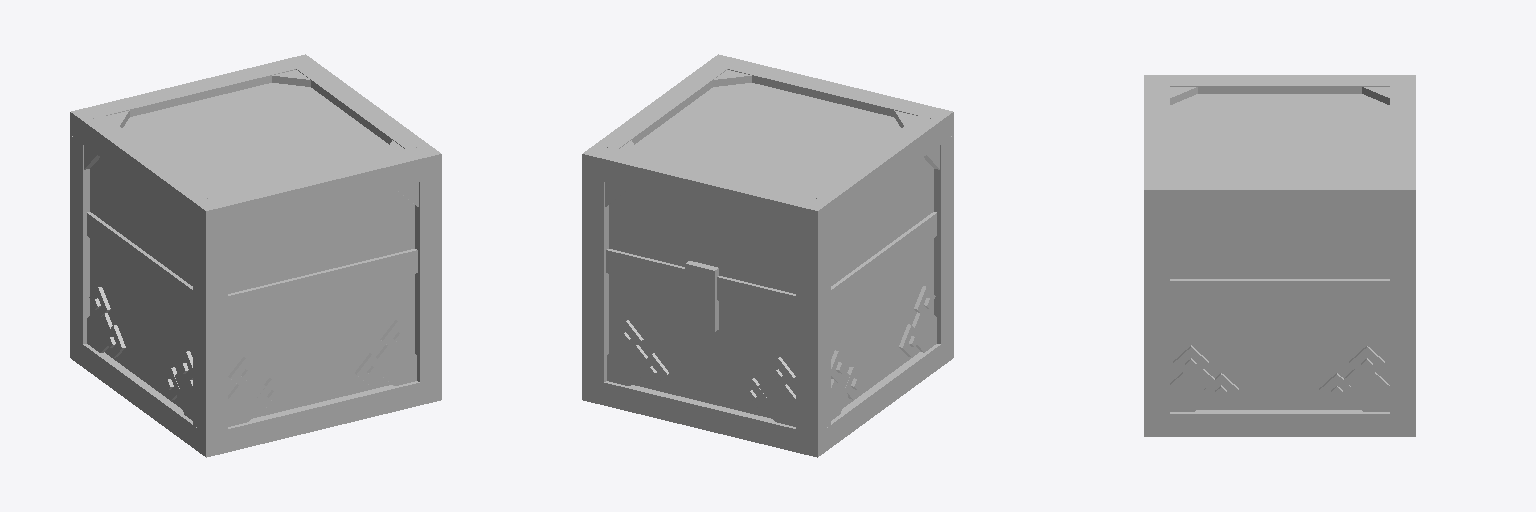
The model's file is engineer_storage.obj.
3 views of the same model, side by side, from view 1: azimuth 30°, elevation 25°; view 2: azimuth 150°, elevation 25°; view 3: azimuth 270°, elevation 25° (orthographic).
Visible parts, largest first — view 1: chest2, chest3, chest6, chest13, chest17, chest8, chest18, chest15, chest22, chest1, chest16, chest10 (+6 smaller); view 2: chest, chest3, chest6, chest1, chest16, chest7, chest9, chest15, chest13, chest21, chest17, chest10 (+7 smaller); view 3: chest5, chest3, chest14, chest11, chest19, chest9, chest18, chest15, chest1, chest13, chest38, chest33 (+6 smaller).
Boxes of the visible parts, box(x1,y1,x2,y2) form: chest2: box(228, 188, 414, 418); chest3: box(123, 83, 388, 190); chest6: box(90, 157, 192, 408); chest13: box(193, 145, 441, 233); chest17: box(193, 225, 227, 434); chest8: box(193, 377, 441, 457); chest18: box(415, 177, 441, 381); chest15: box(83, 116, 215, 223); chest22: box(228, 249, 417, 318); chest1: box(70, 54, 317, 143); chest16: box(70, 135, 89, 343); chest10: box(83, 344, 192, 447); chest: box(609, 188, 795, 418); chest3: box(635, 83, 900, 190); chest6: box(831, 157, 933, 407); chest1: box(582, 145, 830, 233); chest16: box(796, 225, 830, 434); chest7: box(582, 377, 830, 457); chest9: box(582, 177, 608, 381); chest15: box(808, 116, 940, 223); chest13: box(706, 54, 953, 143); chest21: box(606, 249, 795, 318); chest17: box(934, 135, 953, 343); chest10: box(831, 344, 940, 447); chest5: box(1170, 213, 1389, 409); chest3: box(1170, 94, 1389, 178); chest14: box(1170, 179, 1389, 212); chest11: box(1170, 410, 1389, 436); chest19: box(1170, 279, 1389, 303); chest9: box(1390, 213, 1415, 413); chest18: box(1144, 213, 1169, 413); chest15: box(1170, 75, 1389, 93); chest1: box(1390, 75, 1415, 212); chest13: box(1144, 75, 1169, 212); chest38: box(1344, 369, 1389, 411); chest33: box(1170, 369, 1214, 411).
Size of the model in its own units: 1 by 1 by 1.